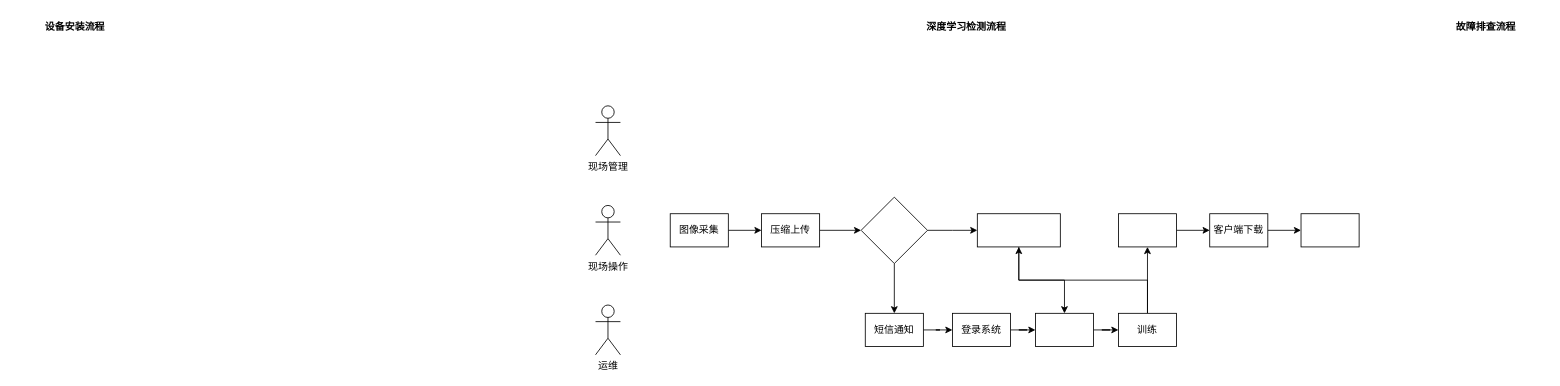
Image size: 1560x386. Some labels were removed from this diagram. Each missing label, with the box of its shape:
上传模型: (1118, 213, 1177, 247)
传给运维人员: (976, 213, 1060, 247)
是否在线: (860, 196, 928, 264)
更新模型: (1300, 213, 1359, 247)
标注: (1035, 312, 1094, 347)
